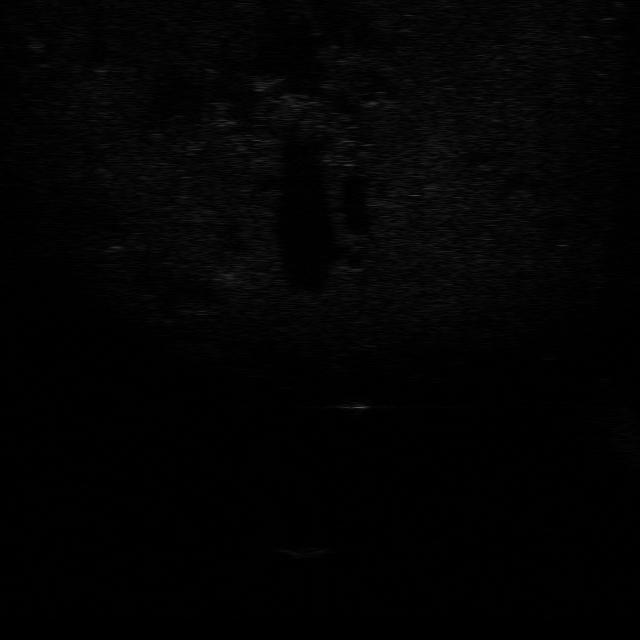cube: (274, 544, 328, 561)
square cage: (327, 401, 375, 415)
